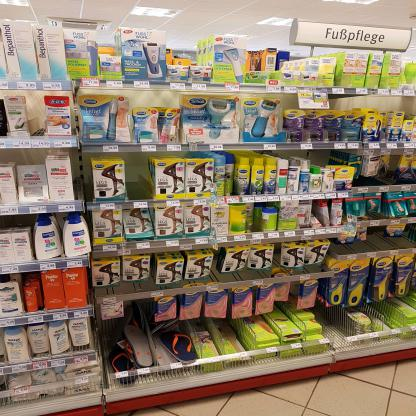Void: (127, 158, 151, 196)
